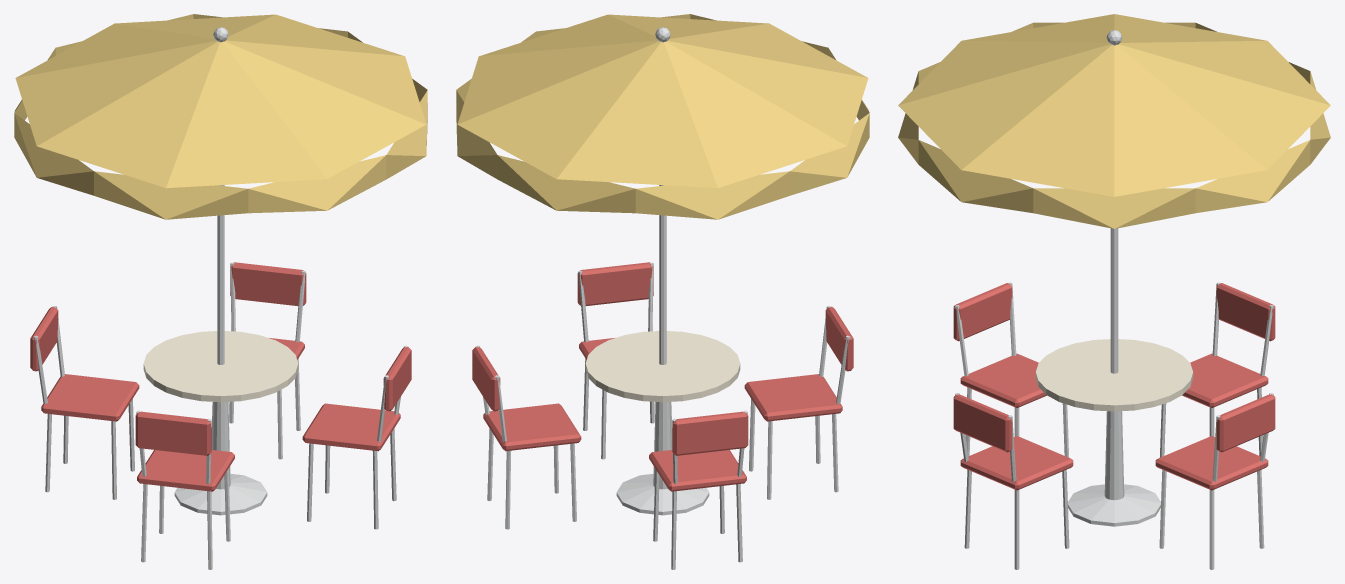
File: umbrella_table_y.glb
3 views of the same model, side by side, from view 1: azimuth 30°, elevation 25°; view 2: azimuth 150°, elevation 25°; view 3: azimuth 270°, elevation 25° (orthographic).
Parts seen in each view (by area): view 1: umbrella_table_y_canvas_y, umbrella_table_y_booth, umbrella_table_y_steel, umbrella_table_y_formica; view 2: umbrella_table_y_canvas_y, umbrella_table_y_booth, umbrella_table_y_steel, umbrella_table_y_formica; view 3: umbrella_table_y_canvas_y, umbrella_table_y_booth, umbrella_table_y_steel, umbrella_table_y_formica.
Boxes of the visible parts, box(x1,y1,x2,y2) form: umbrella_table_y_canvas_y: box(14, 14, 427, 219); umbrella_table_y_booth: box(30, 262, 411, 491); umbrella_table_y_steel: box(33, 27, 408, 569); umbrella_table_y_formica: box(143, 331, 298, 402); umbrella_table_y_canvas_y: box(456, 14, 869, 219); umbrella_table_y_booth: box(472, 262, 853, 491); umbrella_table_y_steel: box(475, 27, 850, 569); umbrella_table_y_formica: box(585, 331, 740, 402); umbrella_table_y_canvas_y: box(898, 14, 1330, 228); umbrella_table_y_booth: box(953, 283, 1275, 490); umbrella_table_y_steel: box(955, 30, 1273, 569); umbrella_table_y_formica: box(1035, 339, 1193, 411).
Bounding box in the file's own units: 2.2 × 2.67 × 2.2.
